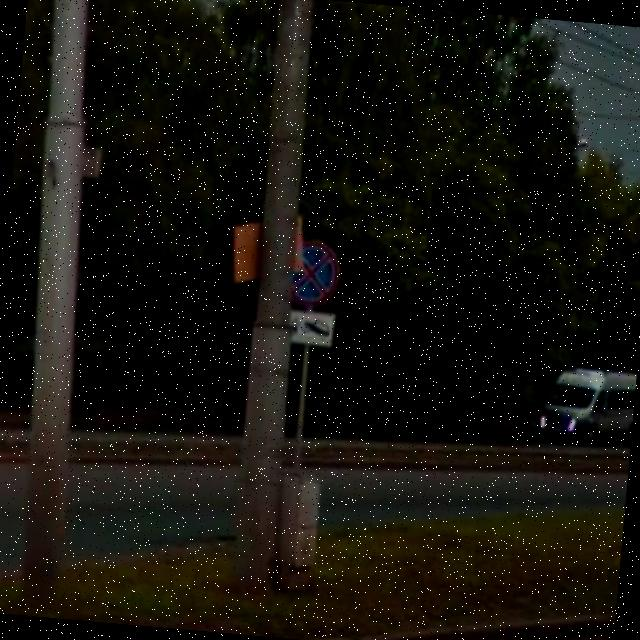Zakaz zatrzymywania sie: (281, 231, 344, 312)
